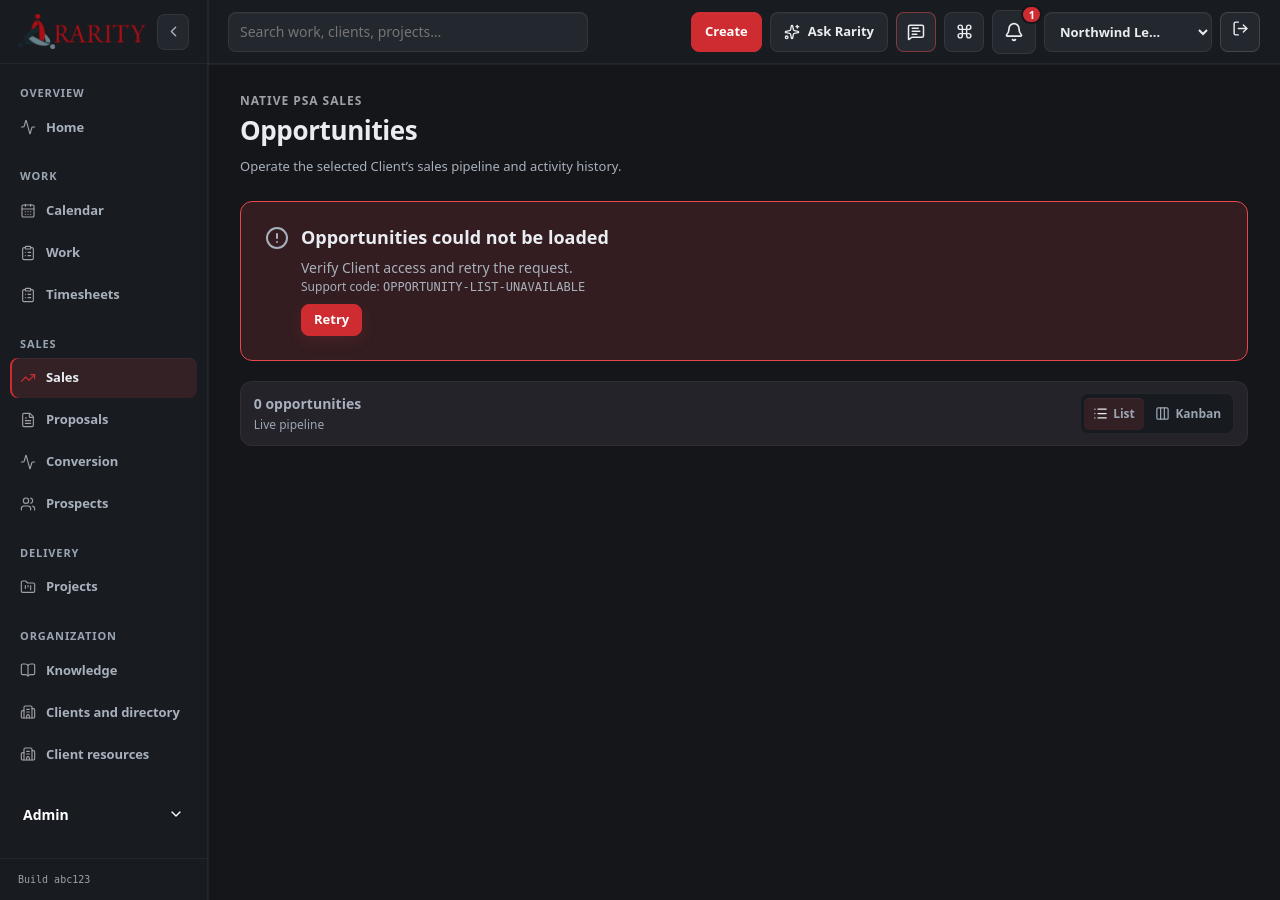
Test: App › navigates to AI provider and policy settings
The image size is (1280, 900).
Click the button "Admin". click: [104, 814]
box: x1=10 y1=792 x2=197 y2=836
(page scrolled)
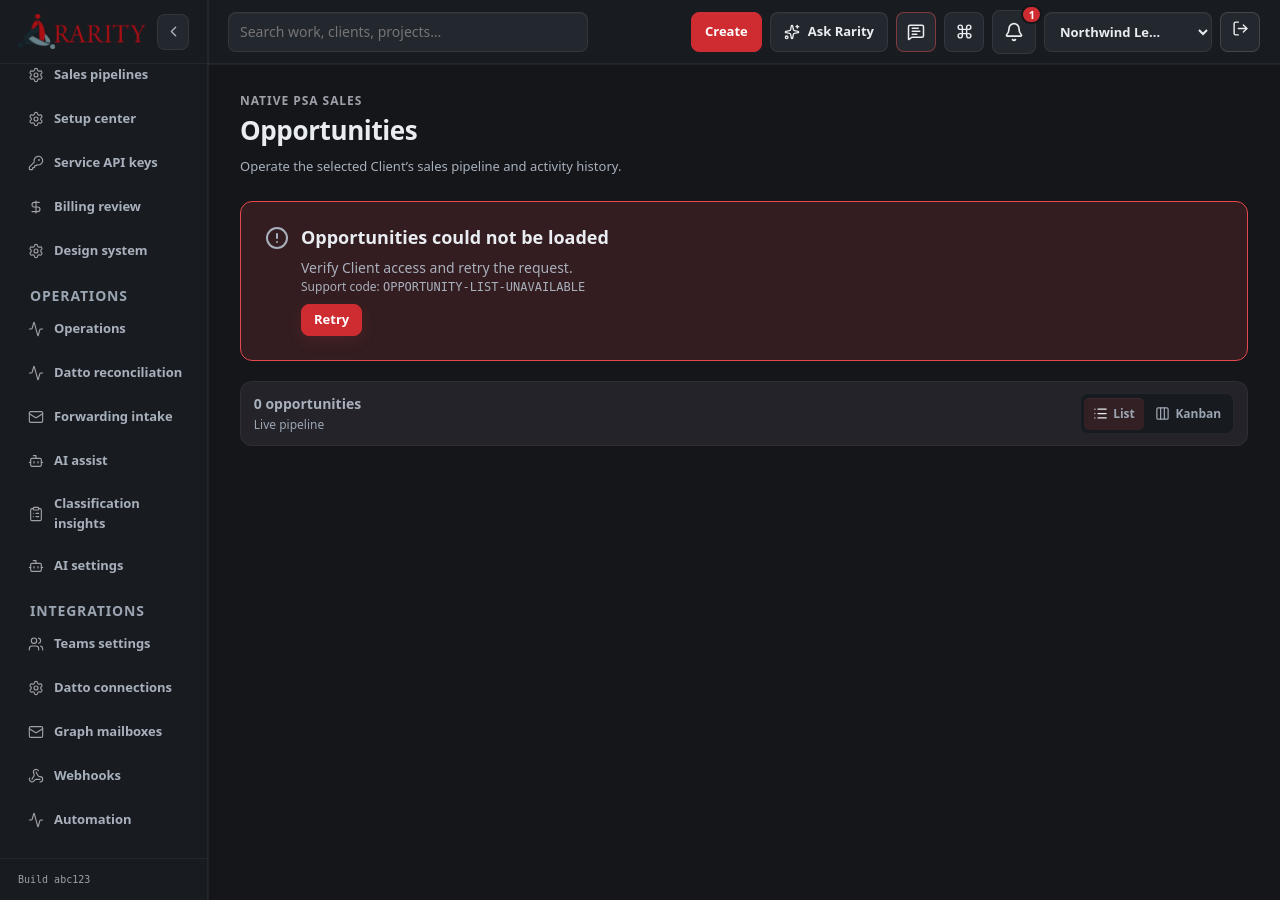
Click the link "AI settings". click: [76, 565]
box: x1=28 y1=556 x2=123 y2=574
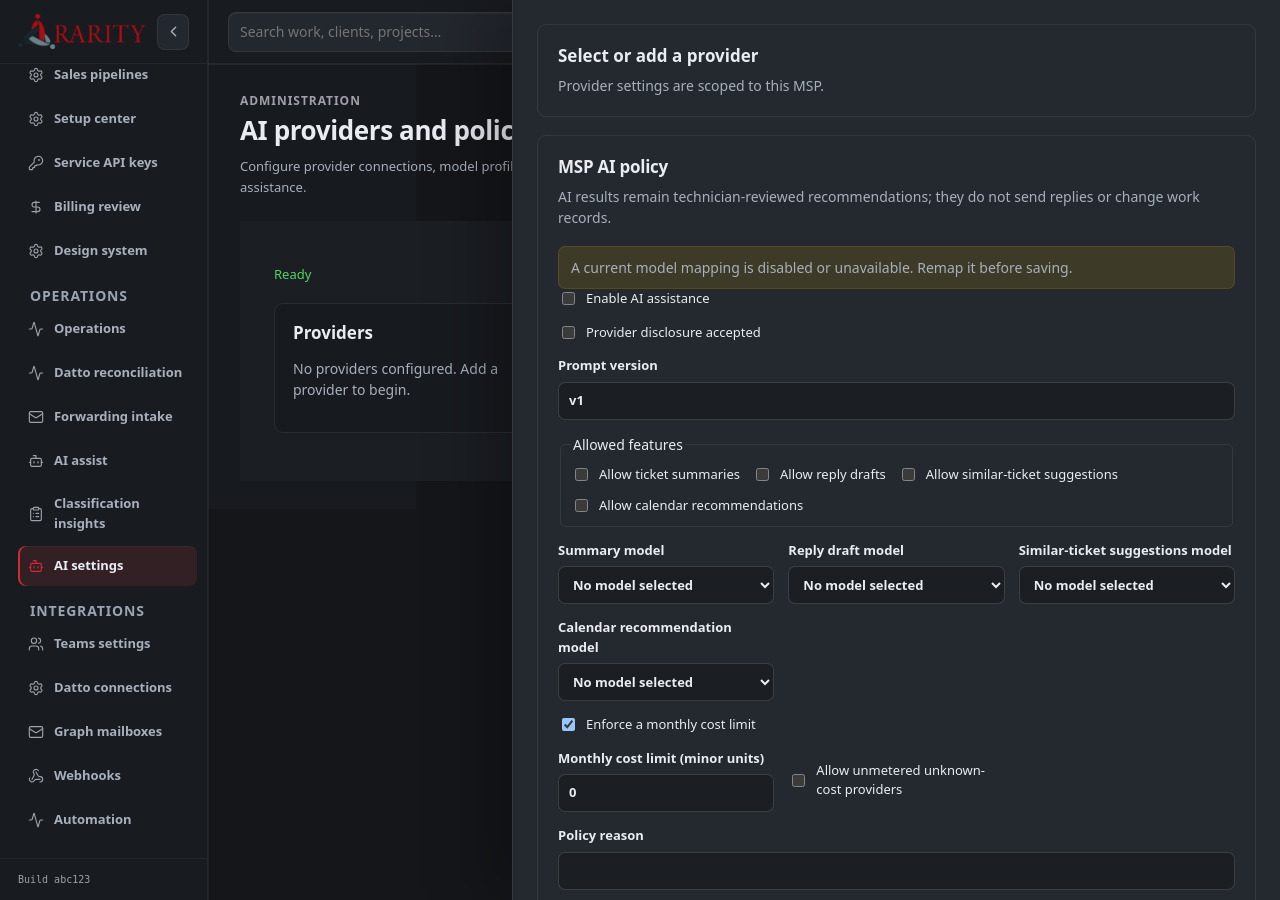
Now the heading "AI providers and policy" is shown, box x1=240 y1=112 x2=528 y2=148
